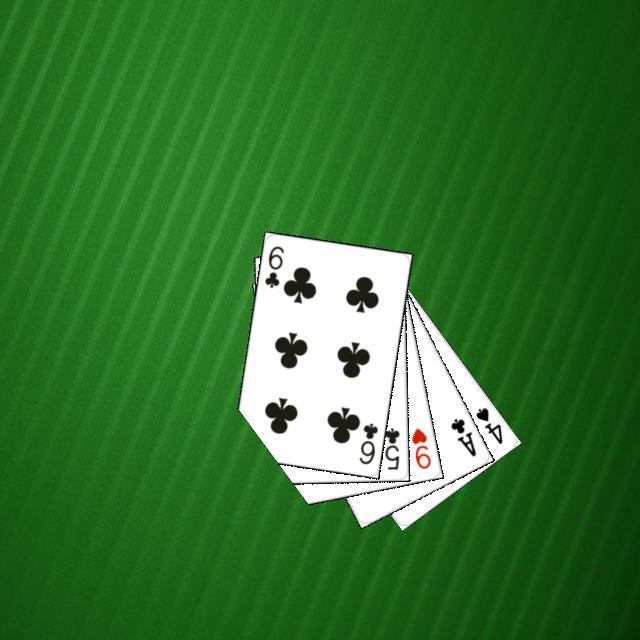4s: (470, 402, 504, 446)
5c: (380, 423, 401, 471)
6c: (354, 418, 380, 466), (260, 241, 286, 289)
9h: (407, 423, 432, 471)
Ac: (445, 413, 478, 458)
